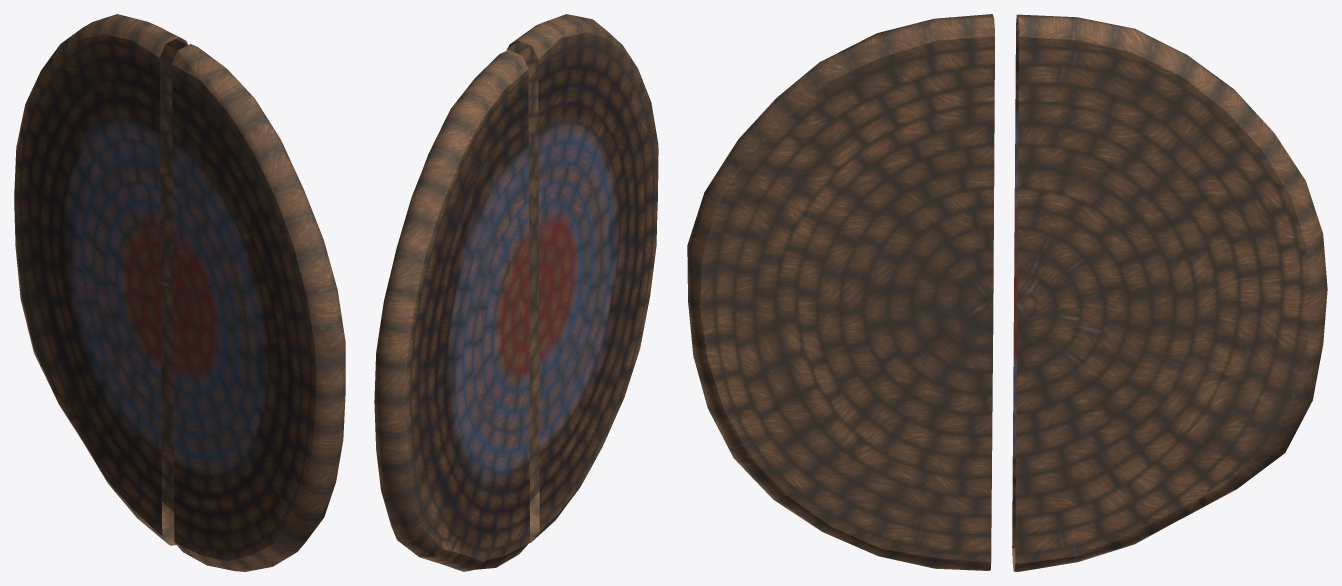
File: target_divided_in_2.glb
3 views of the same model, side by side, from view 1: azimuth 30°, elevation 25°; view 2: azimuth 150°, elevation 25°; view 3: azimuth 270°, elevation 25° (orthographic). The views are drawn at different scales.
Visible parts, largest first — view 1: targetTest2_low; view 2: targetTest2_low; view 3: targetTest2_low.
Part boxes in pixels (<box>): targetTest2_low: <box>14,14,345,571</box>; targetTest2_low: <box>374,14,658,571</box>; targetTest2_low: <box>687,14,1327,571</box>.
Size of the model in its own units: 0.2219 by 1.99 by 2.08.
1 material, 1 textured.
